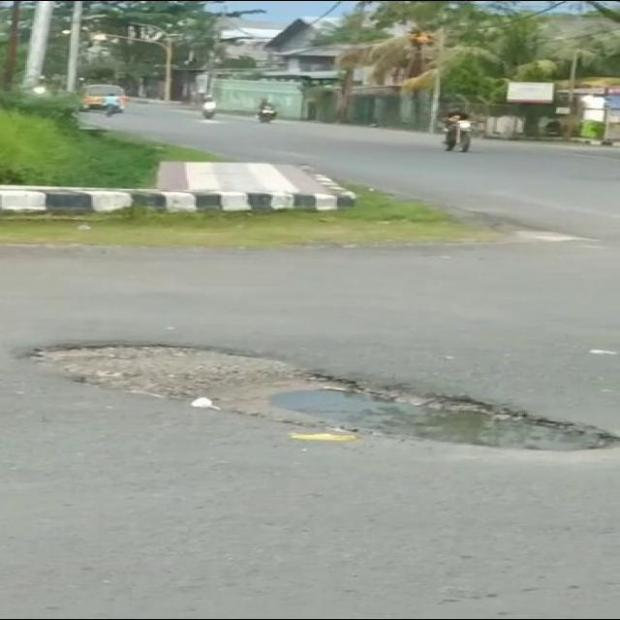lubang: (29, 345, 619, 450)
